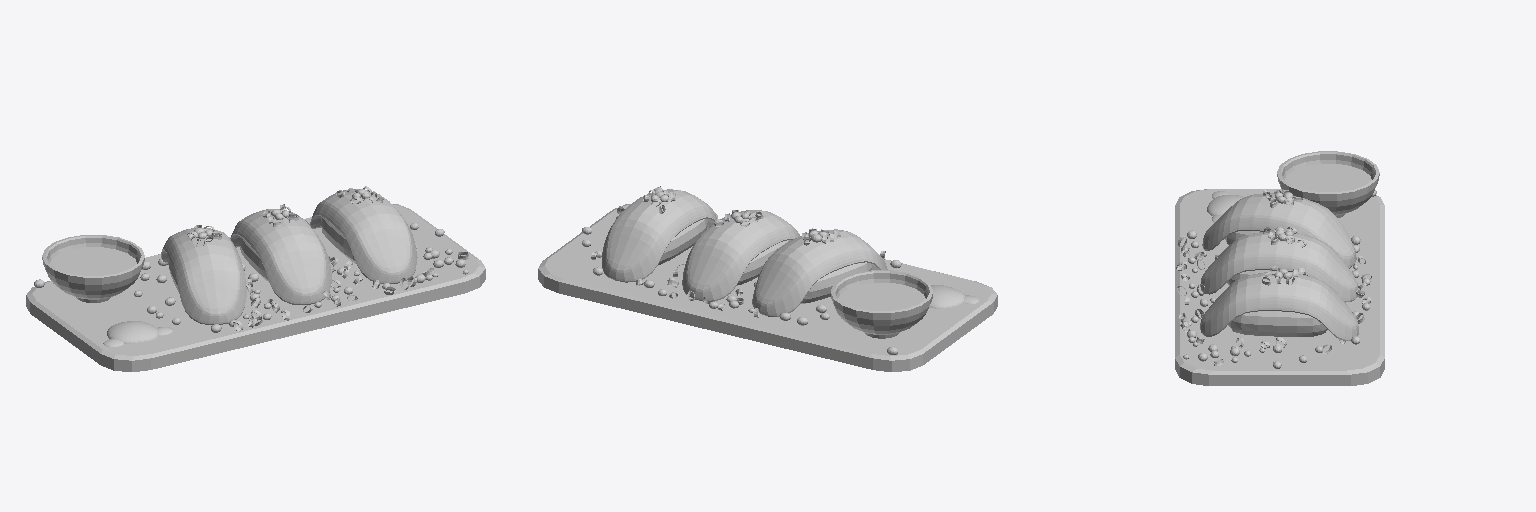
Rendered from Stylized_Salmon_Nigiri_Sushi_to_Sketchfab.obj.
The picture shows the model from 3 angles: view 1: azimuth 30°, elevation 25°; view 2: azimuth 150°, elevation 25°; view 3: azimuth 270°, elevation 25°; orthographic projection.
Visible parts, largest first — view 1: Wooden_Board_Sushi_Sause_Export, Salmon_Sushi_Packs_Export, Salmon_Eggs_Vege_Export, Wasabi_Export, Salmon_Sushi_Deco_Top_Export; view 2: Wooden_Board_Sushi_Sause_Export, Salmon_Sushi_Packs_Export, Salmon_Eggs_Vege_Export, Salmon_Sushi_Deco_Top_Export, Wasabi_Export; view 3: Wooden_Board_Sushi_Sause_Export, Salmon_Sushi_Packs_Export, Salmon_Eggs_Vege_Export, Salmon_Sushi_Deco_Top_Export, Wasabi_Export.
Part boxes in pixels (left/top/right/bottom): Wooden_Board_Sushi_Sause_Export: left=26, top=204, right=485, bottom=371; Salmon_Sushi_Packs_Export: left=161, top=189, right=416, bottom=324; Salmon_Eggs_Vege_Export: left=34, top=219, right=469, bottom=332; Wasabi_Export: left=103, top=321, right=172, bottom=346; Salmon_Sushi_Deco_Top_Export: left=187, top=186, right=383, bottom=246; Wooden_Board_Sushi_Sause_Export: left=538, top=204, right=997, bottom=371; Salmon_Sushi_Packs_Export: left=602, top=189, right=887, bottom=316; Salmon_Eggs_Vege_Export: left=582, top=206, right=901, bottom=354; Salmon_Sushi_Deco_Top_Export: left=643, top=186, right=840, bottom=245; Wasabi_Export: left=929, top=285, right=979, bottom=308; Wooden_Board_Sushi_Sause_Export: left=1175, top=151, right=1384, bottom=385; Salmon_Sushi_Packs_Export: left=1200, top=193, right=1358, bottom=340; Salmon_Eggs_Vege_Export: left=1176, top=190, right=1376, bottom=368; Salmon_Sushi_Deco_Top_Export: left=1262, top=189, right=1306, bottom=285; Wasabi_Export: left=1207, top=191, right=1243, bottom=222.
Bounding box in the file's own units: 1.6 × 0.3001 × 0.7625.